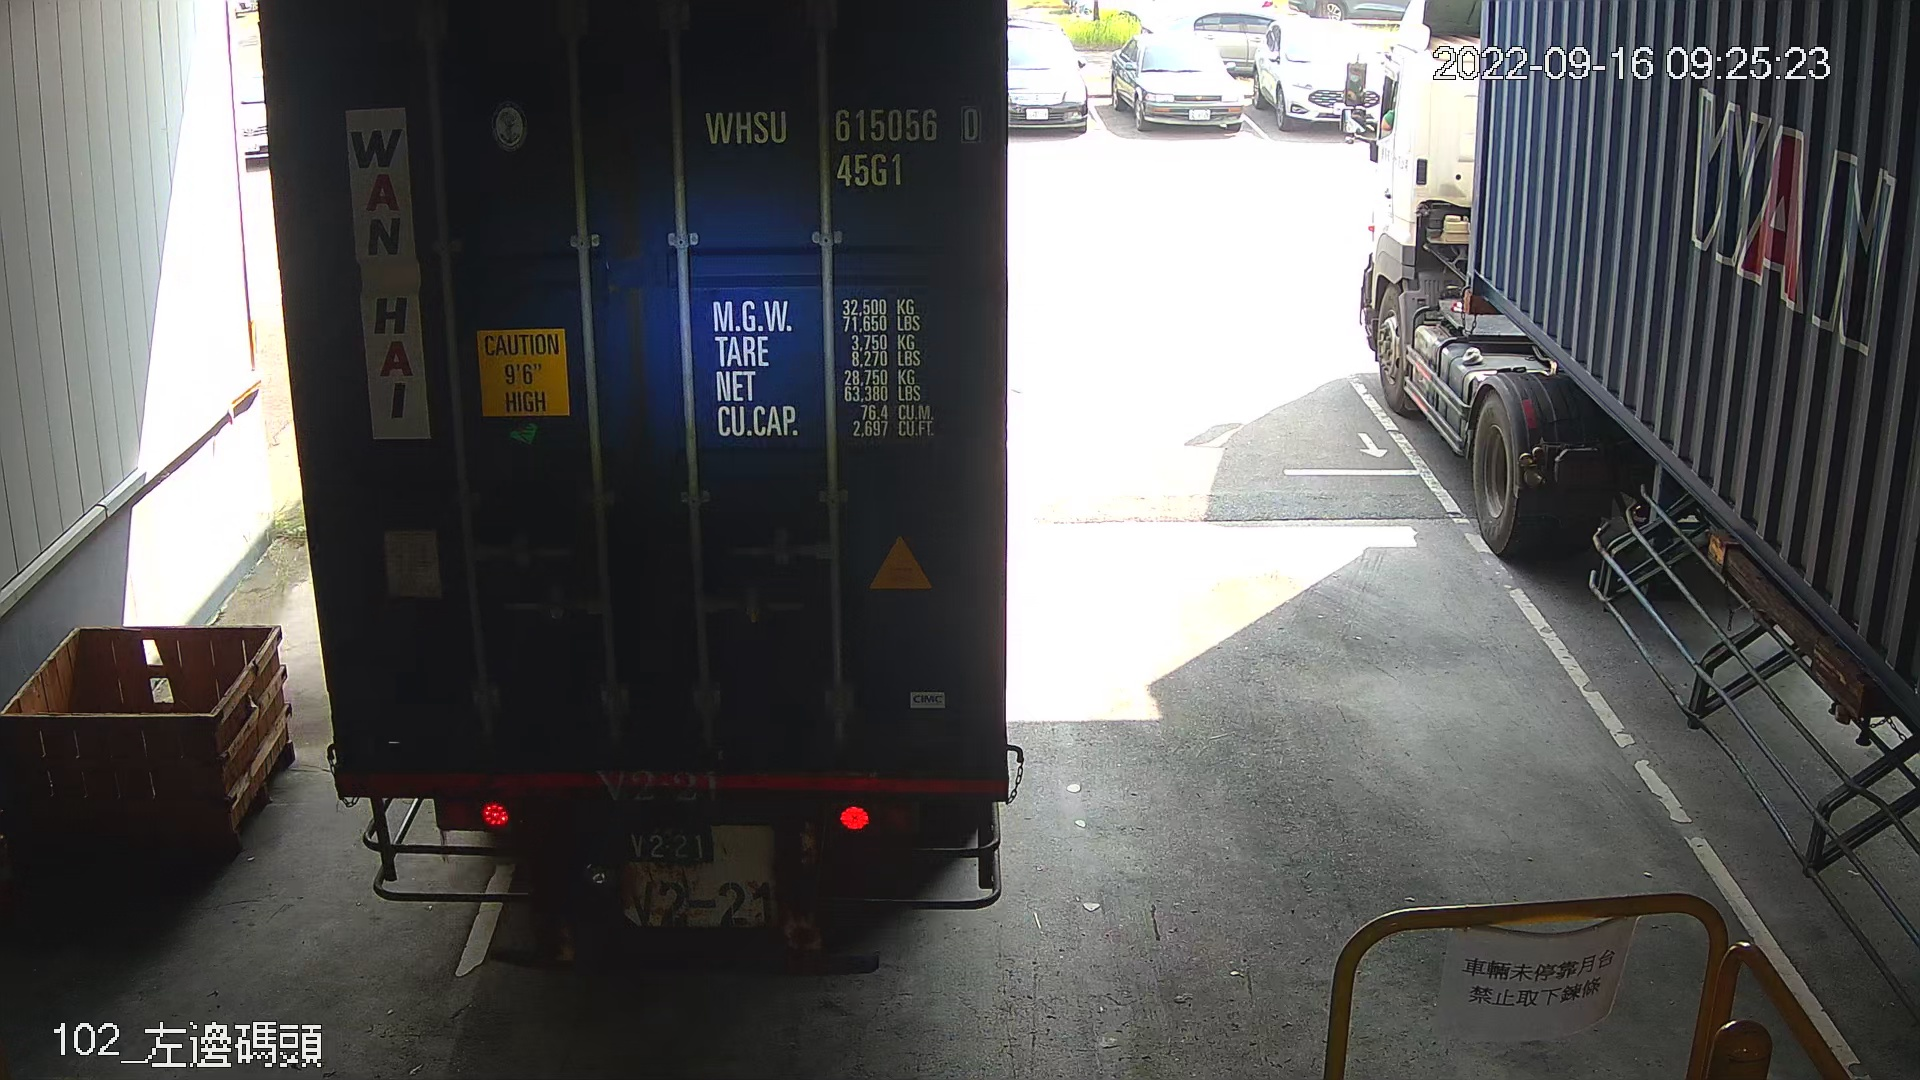container: (691, 98, 992, 196)
